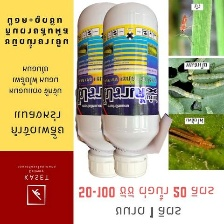insecticide: (99, 0, 162, 180), (74, 0, 137, 180)
